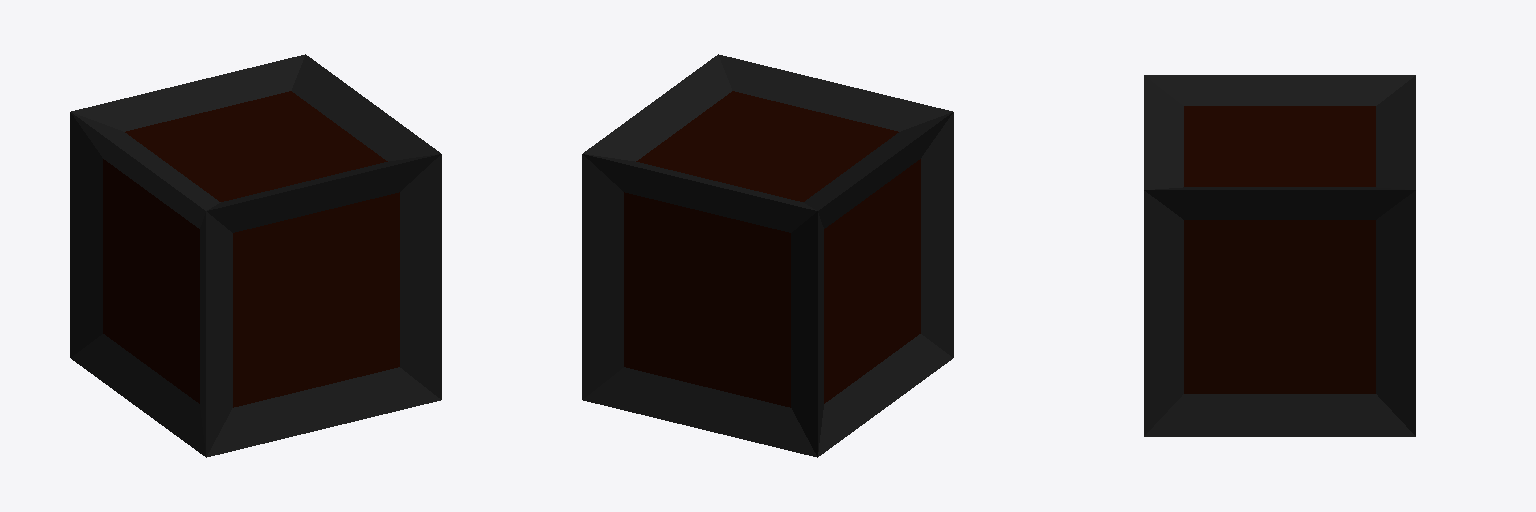
File: crate.obj
The picture shows the model from 3 angles: view 1: azimuth 30°, elevation 25°; view 2: azimuth 150°, elevation 25°; view 3: azimuth 270°, elevation 25°; orthographic projection.
Parts seen in each view (by area): view 1: Cube; view 2: Cube; view 3: Cube.
Part boxes in pixels (left/top/right/bottom): Cube: left=70, top=54, right=441, bottom=457; Cube: left=582, top=54, right=953, bottom=457; Cube: left=1144, top=75, right=1415, bottom=436.
Size of the model in its own units: 2 by 2 by 2.